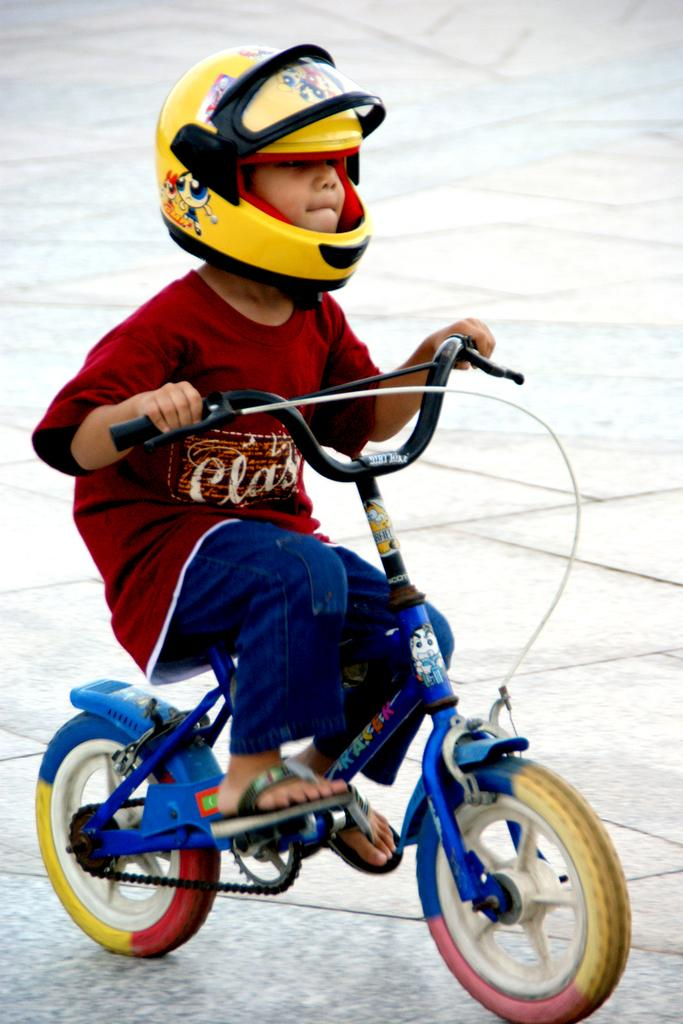helmet: (154, 44, 387, 293)
